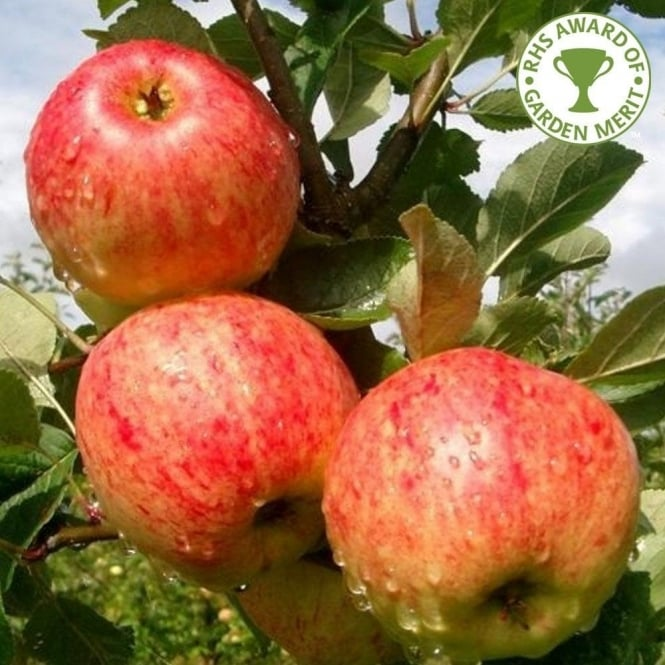apple: (324, 346, 640, 665)
obscured(0)_apple: (73, 290, 363, 588), (27, 39, 299, 310)
